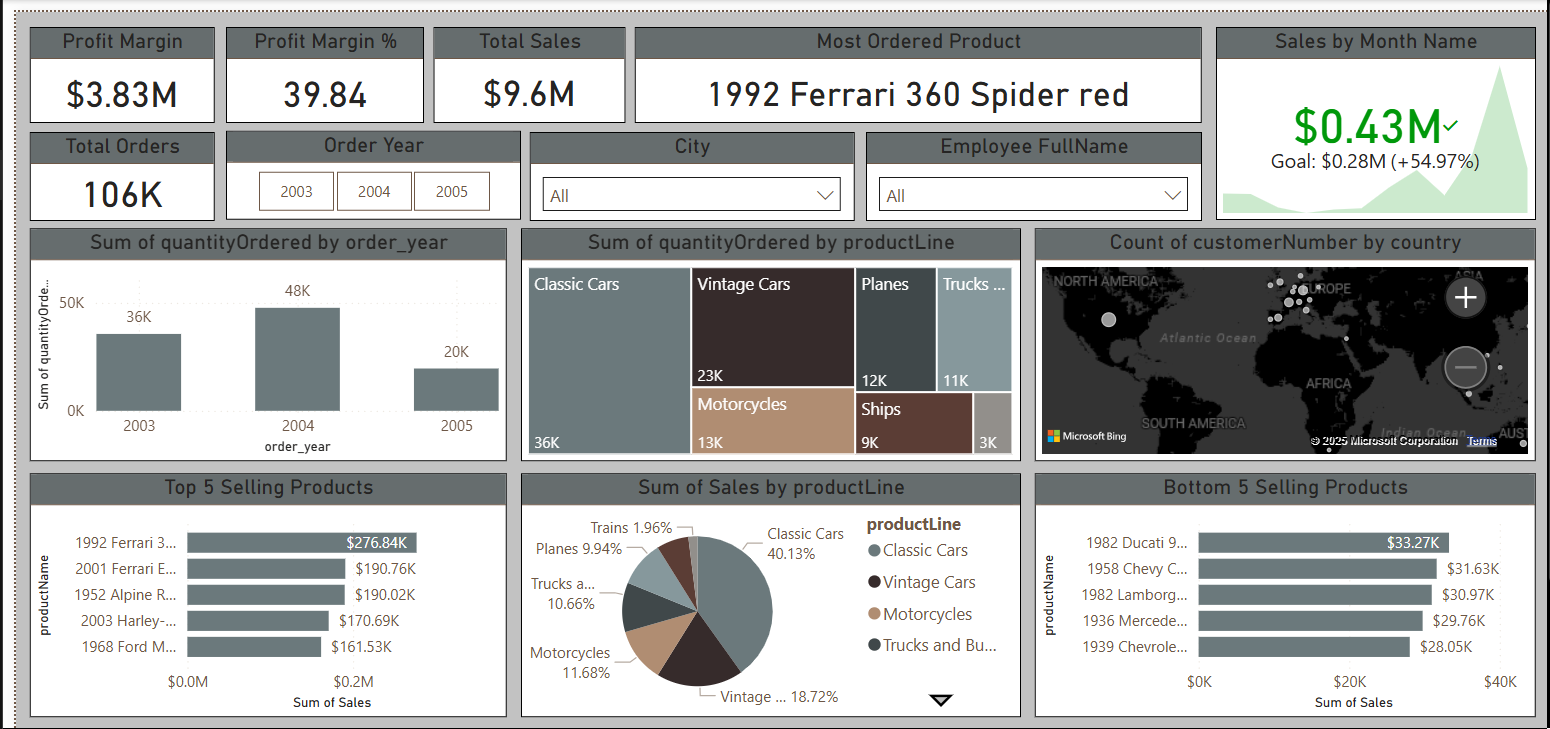

Layout of this report page (visuals, bound fields, positions):
{"tool":"powerbi","page":{"name":"Page 1","canvas":[1282,718],"ordinal":0},"visuals":[{"type":"card","title":"Most Ordered Product ","fields":{"Values":["order details.MostOrderedProduct"]},"box":[495,12,454,77],"z":0},{"type":"card","title":"Profit Margin","fields":{"Values":["orders.Total Profit"]},"box":[11,12,148,77],"z":1000},{"type":"barChart","title":"Top 5 Selling Products","fields":{"Category":["products.productName"],"Y":["Sum(order details.Sales)"]},"box":[11,369,382,195],"z":2000},{"type":"pieChart","fields":{"Category":["products.productLine"],"Y":["Sum(order details.Sales)"]},"box":[404,369,400,195],"z":3000},{"type":"slicer","title":"Order Year","fields":{"Values":["orders.order_year"]},"box":[168,95,236,71],"z":4000},{"type":"kpi","title":"Sales by Month Name","fields":{"Indicator":["orders.Sales_2004"],"Goal":["orders.Sales_2003"],"TrendLine":["orders.Month Name"]},"box":[960,12,256,154],"z":5000},{"type":"map","fields":{"Category":["Customers.country"],"Size":["CountNonNull(Customers.customerNumber)"]},"box":[815,173,401,186],"z":6000},{"type":"treemap","fields":{"Group":["productlines.productLine"],"Values":["Sum(order details.quantityOrdered)"]},"box":[404,173,400,186],"z":7000},{"type":"columnChart","fields":{"Category":["orders.order_year"],"Y":["Sum(order details.quantityOrdered)"]},"box":[11,173,382,186],"z":8000},{"type":"card","title":"Profit Margin %","fields":{"Values":["classic_models_dataset.Profit Margin %"]},"box":[168,12,159,77],"z":9000},{"type":"card","title":"Total Sales","fields":{"Values":["Customers.Total Sales"]},"box":[334,12,154,77],"z":10000},{"type":"slicer","title":"City","fields":{"Values":["Customers.city"]},"box":[411,96,260,71],"z":11000},{"type":"slicer","title":"Employee FullName","fields":{"Values":["Customers.city"]},"box":[680,96,269,71],"z":12000},{"type":"card","title":"Total Orders","fields":{"Values":["Sum(order details.quantityOrdered)"]},"box":[11,96,148,71],"z":13000},{"type":"barChart","title":"Bottom 5 Selling Products","fields":{"Category":["products.productName"],"Y":["Sum(order details.Sales)"]},"box":[815,369,401,195],"z":14000}]}

Visuals, with their boxes on the page's 1282x718 design canvas (x1, y1, x2, y2). These are canvas units, not pixel positions in the 1550x729 screenshot, which may show the page scaled, cropped or inside an application window:
"Most Ordered Product " card: <bbox>495, 12, 949, 89</bbox>
"Profit Margin" card: <bbox>11, 12, 159, 89</bbox>
"Top 5 Selling Products" barChart: <bbox>11, 369, 393, 564</bbox>
pieChart - products.productLine x Sum(order details.Sales): <bbox>404, 369, 804, 564</bbox>
"Order Year" slicer: <bbox>168, 95, 404, 166</bbox>
"Sales by Month Name" kpi: <bbox>960, 12, 1216, 166</bbox>
map - Customers.country x CountNonNull(Customers.customerNumber): <bbox>815, 173, 1216, 359</bbox>
treemap - productlines.productLine x Sum(order details.quantityOrdered): <bbox>404, 173, 804, 359</bbox>
columnChart - orders.order_year x Sum(order details.quantityOrdered): <bbox>11, 173, 393, 359</bbox>
"Profit Margin %" card: <bbox>168, 12, 327, 89</bbox>
"Total Sales" card: <bbox>334, 12, 488, 89</bbox>
"City" slicer: <bbox>411, 96, 671, 167</bbox>
"Employee FullName" slicer: <bbox>680, 96, 949, 167</bbox>
"Total Orders" card: <bbox>11, 96, 159, 167</bbox>
"Bottom 5 Selling Products" barChart: <bbox>815, 369, 1216, 564</bbox>
